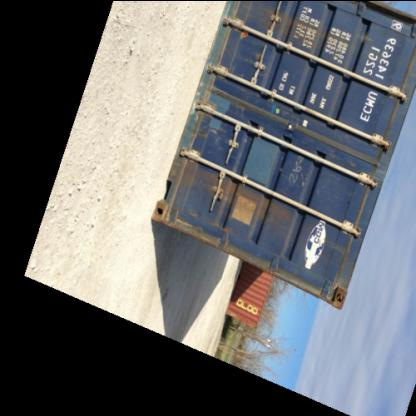Damage: (203, 174, 291, 220), (189, 100, 246, 150), (259, 6, 317, 40), (322, 237, 356, 257), (284, 150, 311, 174), (328, 283, 349, 307)
